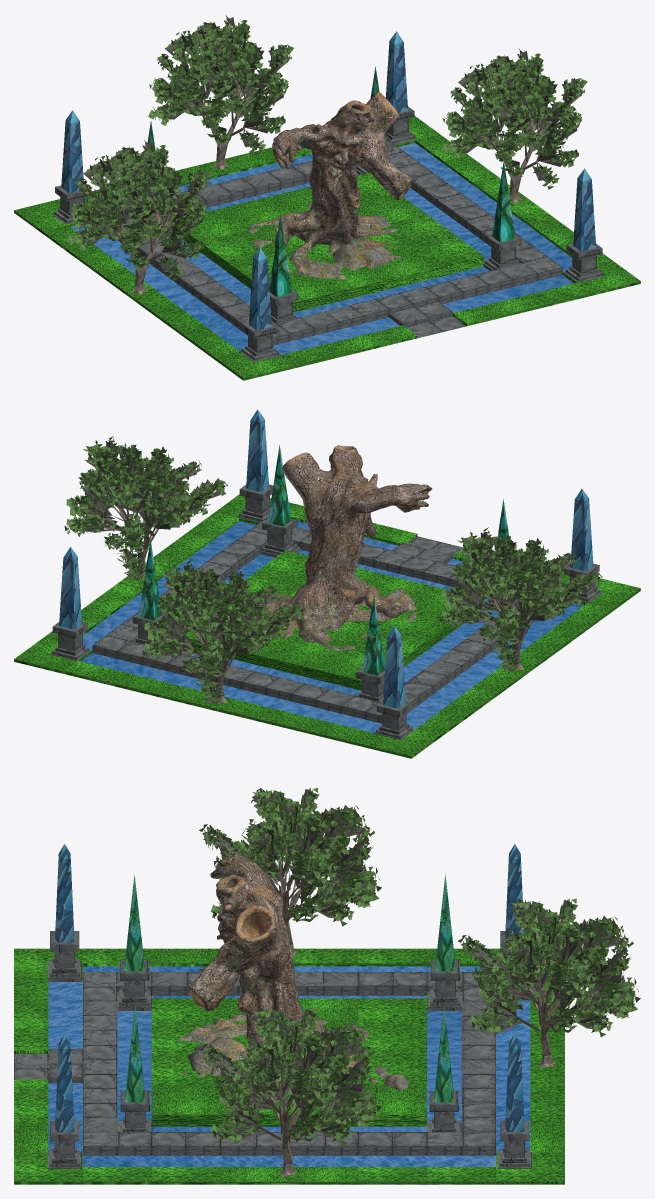
Rendered from Elf-Ent_Building.fbx.
3 renders of one model, top to bottom at view 1: azimuth 30°, elevation 25°; view 2: azimuth 150°, elevation 25°; view 3: azimuth 270°, elevation 25°, orthographic. The views are drawn at different scales.
Visible parts, largest first — view 1: Cesped, Piedra, Giant_Tree, Agua, Arbol3, Arbol2, Arbol1, Blue_Obelisk2, Blue_Obelisk3, Blue_Obelisk4, Blue_Obelisk1, Green_Obelisk2 (+1 smaller); view 2: Cesped, Giant_Tree, Piedra, Agua, Arbol3, Arbol2, Arbol1, Blue_Obelisk4, Blue_Obelisk1, Blue_Obelisk2, Green_Obelisk2, Blue_Obelisk3 (+2 smaller); view 3: Cesped, Piedra, Agua, Arbol3, Arbol1, Giant_Tree, Arbol2, Blue_Obelisk3, Blue_Obelisk1, Blue_Obelisk2, Green_Obelisk3, Green_Obelisk4 (+3 smaller).
Part boxes in pixels (x1=…): Cesped: x1=14, y1=116, x2=640, y2=380; Piedra: x1=117, y1=141, x2=562, y2=345; Giant_Tree: x1=247, y1=92, x2=412, y2=279; Agua: x1=70, y1=143, x2=573, y2=354; Arbol3: x1=148, y1=15, x2=293, y2=169; Arbol2: x1=66, y1=140, x2=212, y2=294; Arbol1: x1=441, y1=48, x2=587, y2=203; Blue_Obelisk2: x1=564, y1=168, x2=604, y2=282; Blue_Obelisk3: x1=239, y1=247, x2=280, y2=361; Blue_Obelisk4: x1=52, y1=110, x2=89, y2=224; Blue_Obelisk1: x1=385, y1=31, x2=416, y2=144; Green_Obelisk2: x1=483, y1=160, x2=521, y2=270; Cesped: x1=14, y1=494, x2=640, y2=758; Giant_Tree: x1=226, y1=445, x2=432, y2=650; Piedra: x1=92, y1=519, x2=557, y2=723; Agua: x1=81, y1=521, x2=584, y2=732; Arbol3: x1=142, y1=560, x2=305, y2=705; Arbol2: x1=439, y1=527, x2=602, y2=672; Arbol1: x1=64, y1=436, x2=227, y2=580; Blue_Obelisk4: x1=373, y1=626, x2=414, y2=740; Blue_Obelisk1: x1=50, y1=547, x2=90, y2=660; Blue_Obelisk2: x1=237, y1=409, x2=273, y2=522; Green_Obelisk2: x1=260, y1=445, x2=300, y2=557; Blue_Obelisk3: x1=564, y1=488, x2=602, y2=602; Cesped: x1=14, y1=948, x2=564, y2=1184; Piedra: x1=14, y1=972, x2=495, y2=1155; Agua: x1=48, y1=966, x2=530, y2=1166; Arbol3: x1=458, y1=898, x2=640, y2=1068; Arbol1: x1=199, y1=1007, x2=381, y2=1176; Giant_Tree: x1=176, y1=856, x2=408, y2=1092; Arbol2: x1=199, y1=788, x2=381, y2=956; Blue_Obelisk3: x1=47, y1=844, x2=81, y2=981; Blue_Obelisk1: x1=497, y1=1033, x2=531, y2=1168; Blue_Obelisk2: x1=47, y1=1034, x2=81, y2=1168; Green_Obelisk3: x1=117, y1=874, x2=151, y2=1010; Green_Obelisk4: x1=428, y1=874, x2=461, y2=1010.
Bounding box in the file's own units: 1943 × 579 × 1707.
